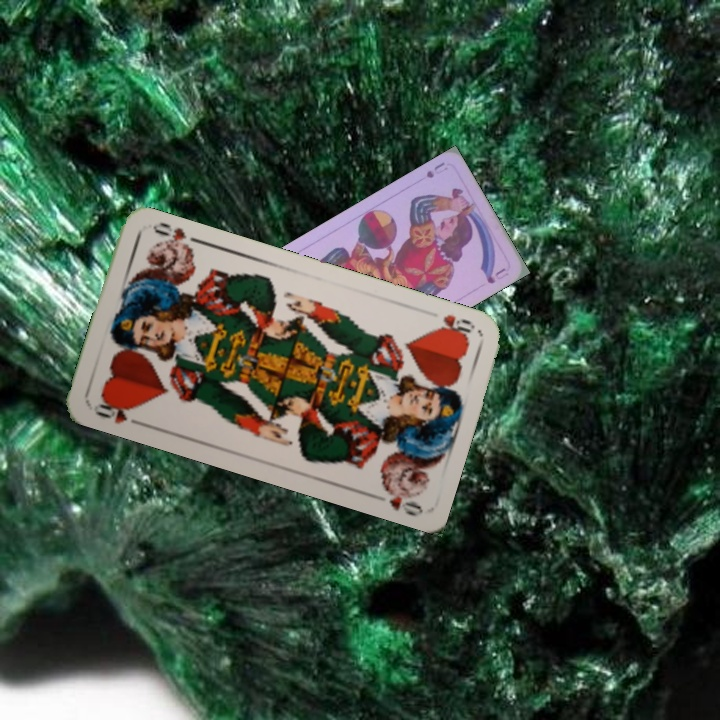HO: (89, 395, 146, 429), (428, 310, 478, 342)
SU: (422, 158, 450, 181)
